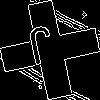J: (25, 25, 59, 75)
